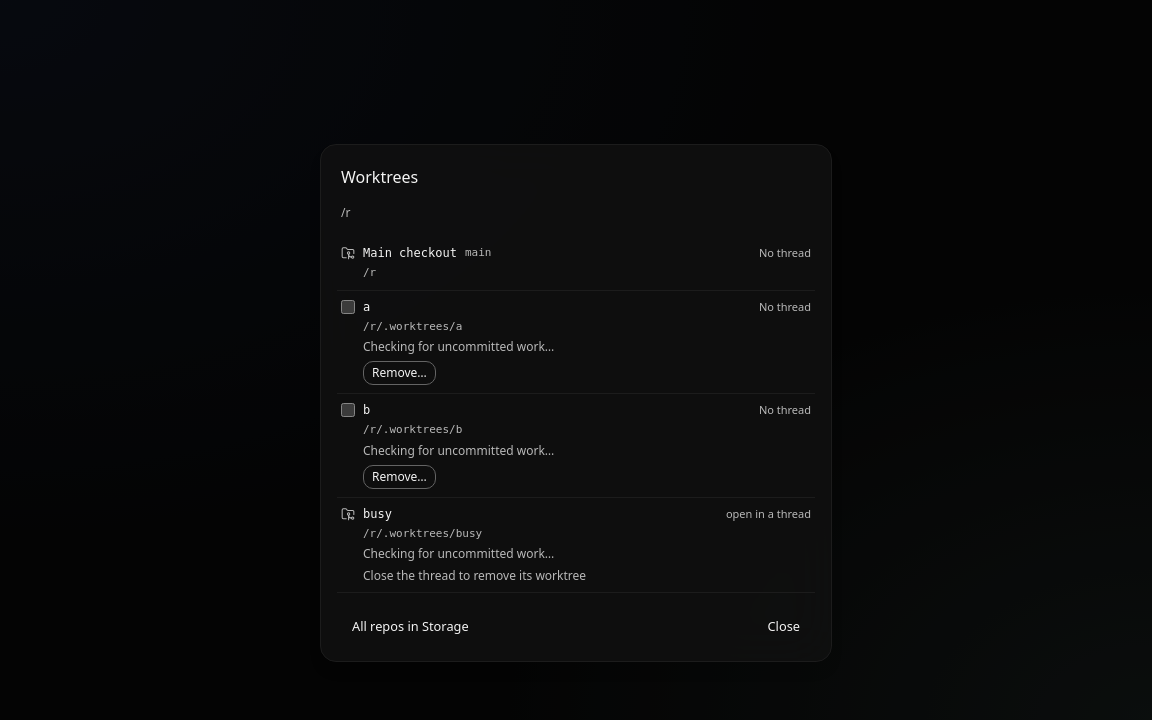
WorktreesDialog bulk removal › selects only unused worktrees and removes several with each one's picked rules
This screenshot has width=1152, height=720.
Check: the list item "a" is shown, box [337, 290, 815, 394]
Click the checkbox named "Select a". click: (348, 306)
box: [341, 300, 355, 314]
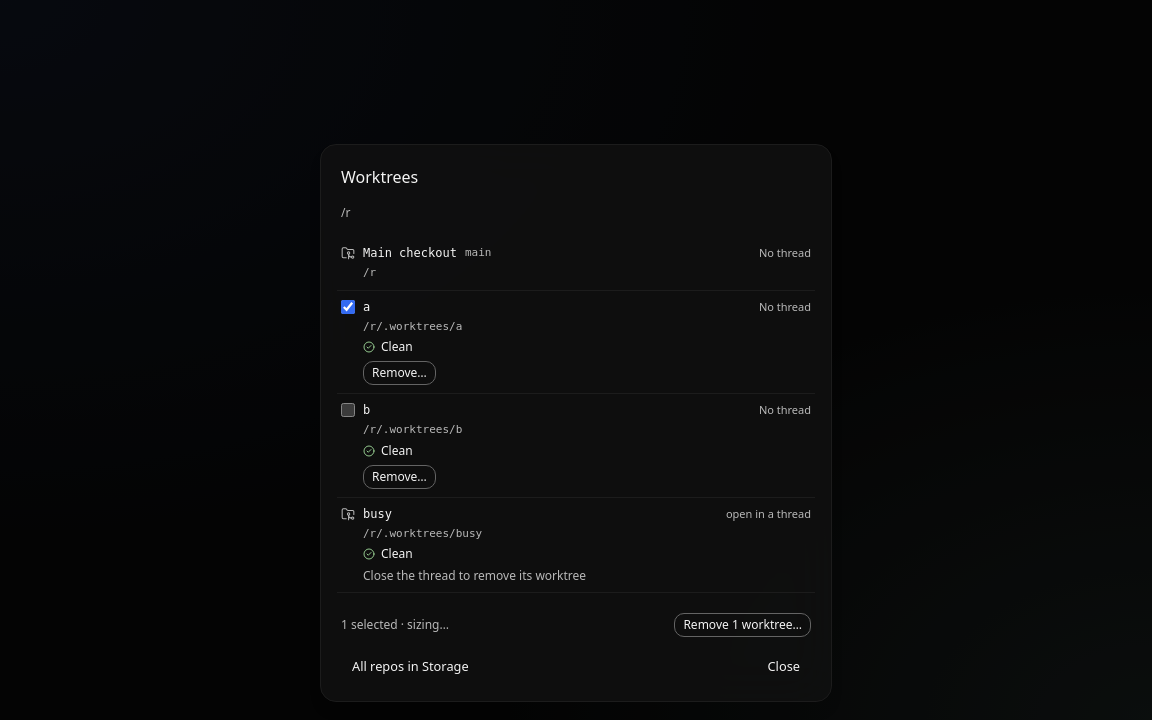
Click the checkbox named "Select b". click: (348, 410)
box: [341, 403, 355, 417]
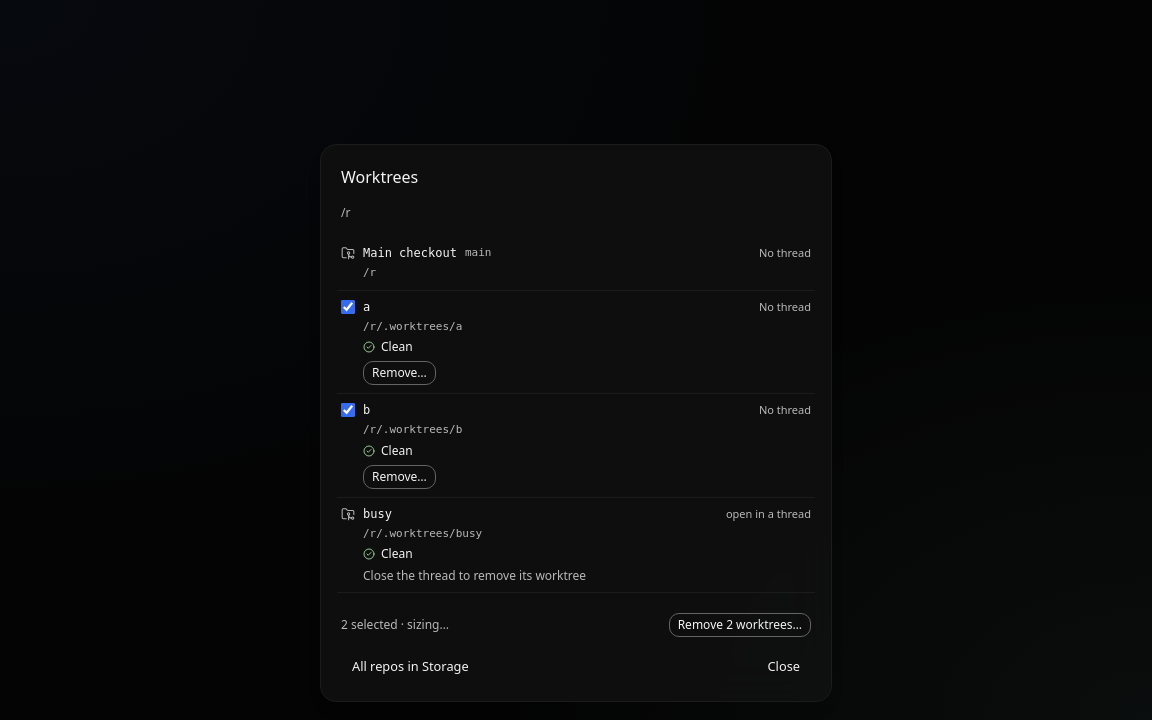
Click the button "Remove 2 worktrees…". click: (740, 625)
box: [669, 613, 811, 637]
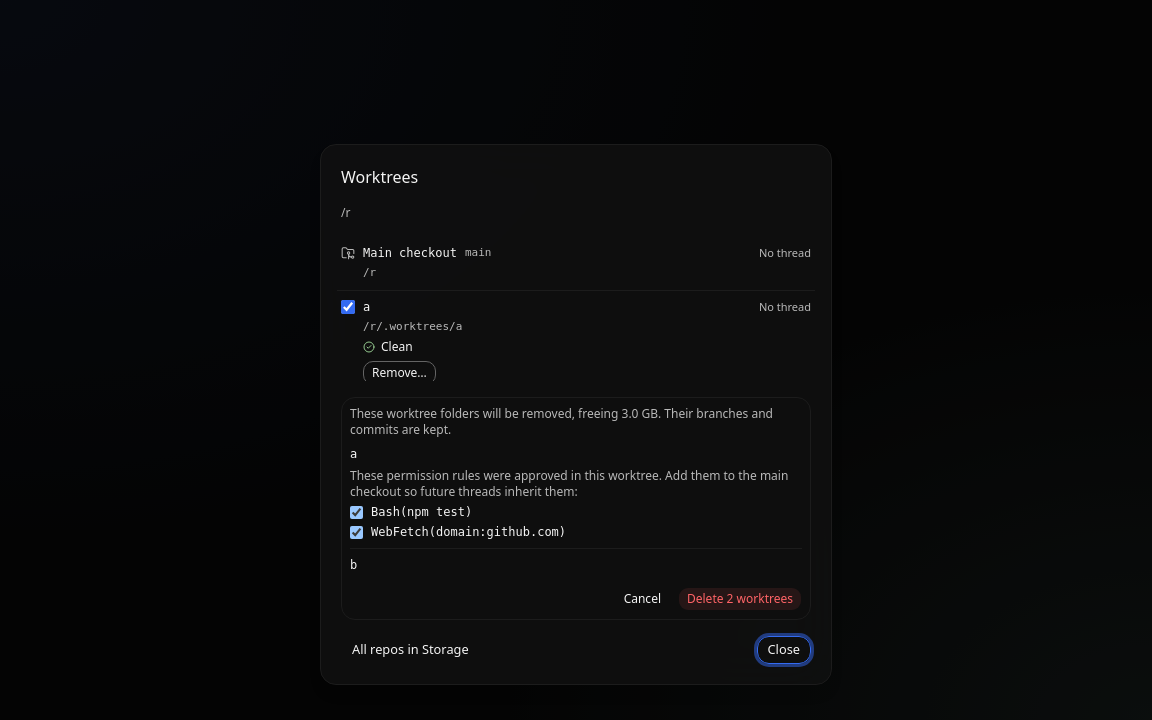
Click the checkbox labelled "WebFetch(domain:github.com)". click: (356, 532)
box: [350, 526, 363, 538]
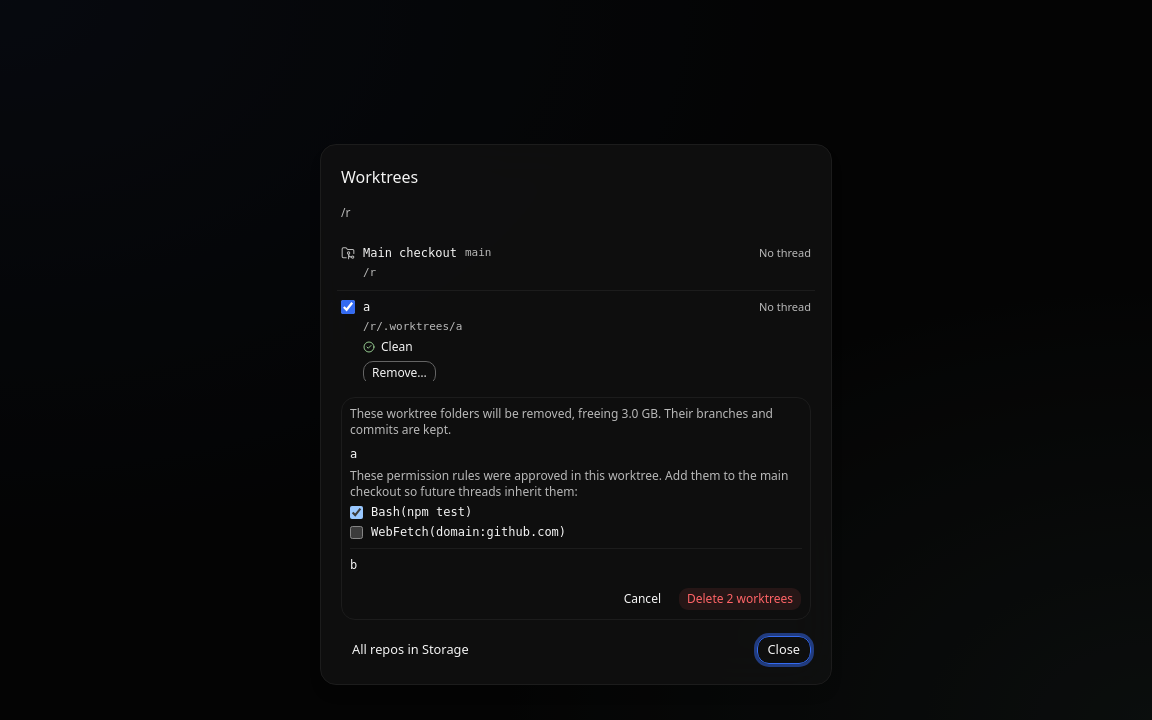
Check: the button "Delete 2 worktrees" is enabled
Click the button "Delete 2 worktrees". click: (740, 599)
box: [678, 587, 802, 611]
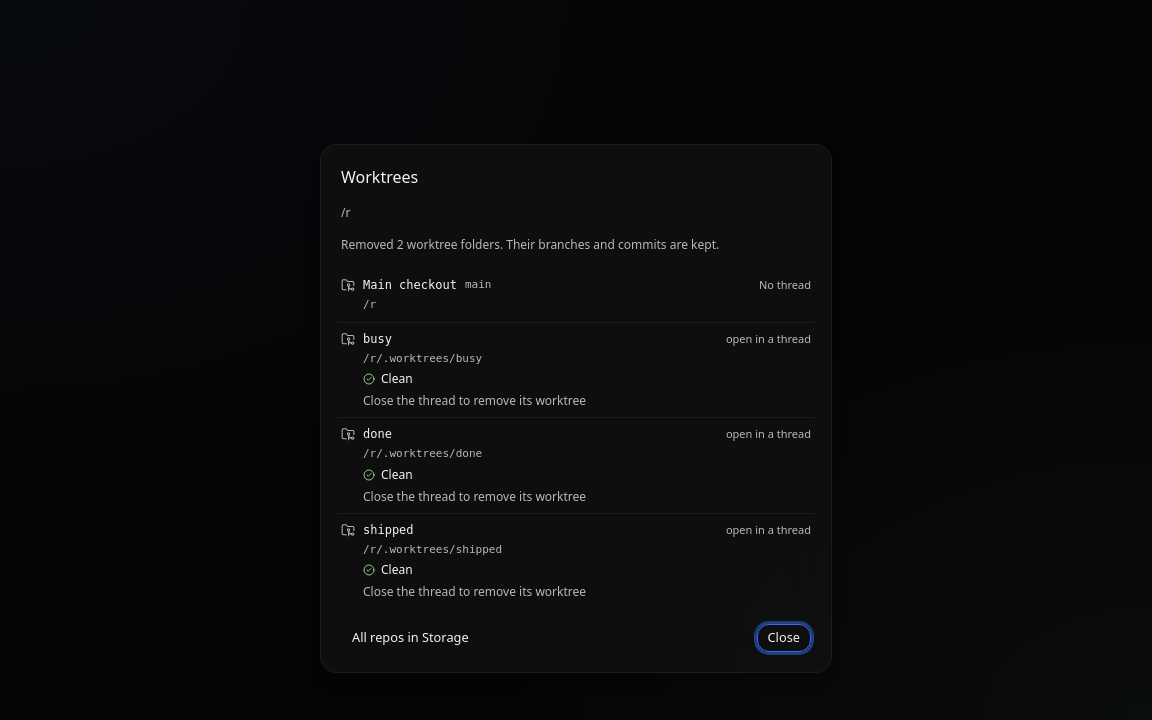
Check: the message reads "Removed 2 worktree folders. Their branches and commits are kept.", box [341, 236, 719, 253]
Check: the element with test id "worktree-bulk-remove" is gone
